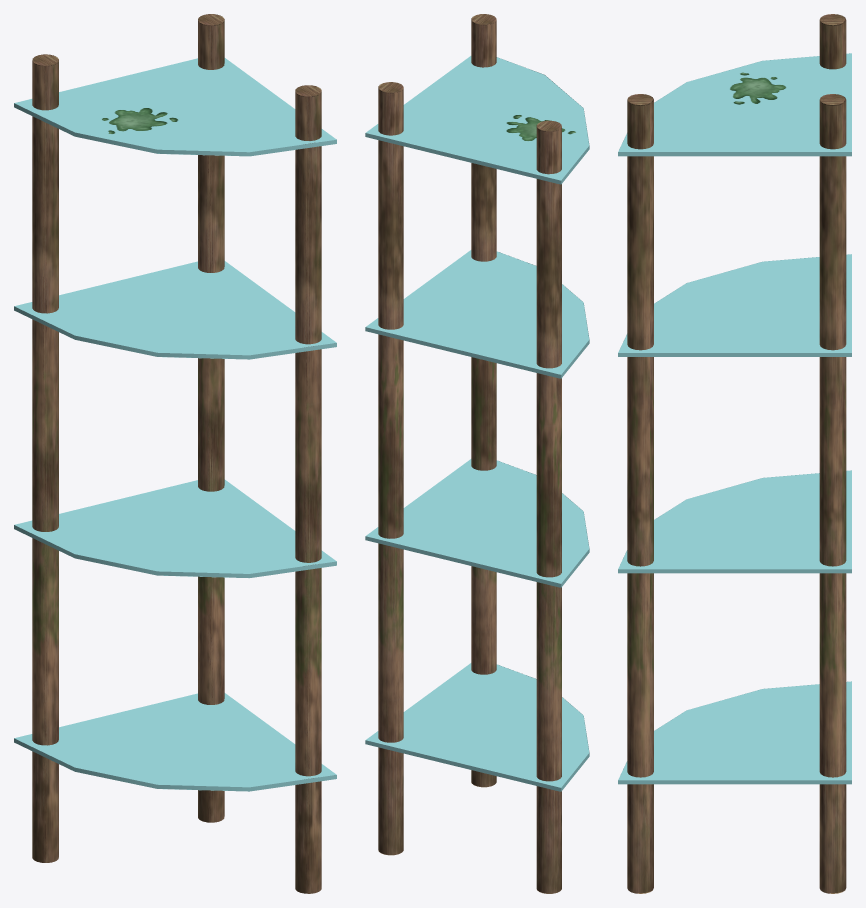
File: Estanteria.FBX
3 renders of one model, left to right at view 1: azimuth 30°, elevation 25°; view 2: azimuth 150°, elevation 25°; view 3: azimuth 270°, elevation 25°, orthographic. The views are drawn at different scales.
Visible parts, largest first — view 1: Patas 004, Patas 005, Estante 006, Estante 4, Estante 005, Estante 007, Patas 2; view 2: Patas 005, Patas 2, Estante 4, Estante 006, Estante 007, Estante 005, Patas 004; view 3: Patas 2, Patas 004, Estante 4, Estante 006, Estante 007, Estante 005, Patas 005.
Boxes of the visible parts, bbox=[...] form: Patas 004: bbox=[295, 85, 321, 893]; Patas 005: bbox=[32, 54, 58, 862]; Estante 006: bbox=[14, 479, 336, 578]; Estante 4: bbox=[14, 58, 336, 156]; Estante 005: bbox=[14, 261, 336, 359]; Estante 007: bbox=[14, 693, 336, 791]; Patas 2: bbox=[198, 14, 224, 822]; Patas 005: bbox=[536, 120, 561, 893]; Patas 2: bbox=[378, 82, 403, 855]; Estante 4: bbox=[365, 56, 589, 184]; Estante 006: bbox=[365, 459, 589, 587]; Estante 007: bbox=[365, 663, 589, 791]; Estante 005: bbox=[365, 250, 589, 378]; Patas 004: bbox=[471, 14, 496, 787]; Patas 2: bbox=[819, 94, 846, 893]; Patas 004: bbox=[627, 94, 653, 893]; Estante 4: bbox=[618, 53, 851, 156]; Estante 006: bbox=[618, 470, 851, 573]; Estante 007: bbox=[618, 681, 851, 784]; Estante 005: bbox=[618, 254, 851, 356]; Patas 005: bbox=[819, 14, 846, 69].
Bounding box in the file's own units: 0.2524 × 0.9398 × 0.2524.
3 materials, 3 textured.
